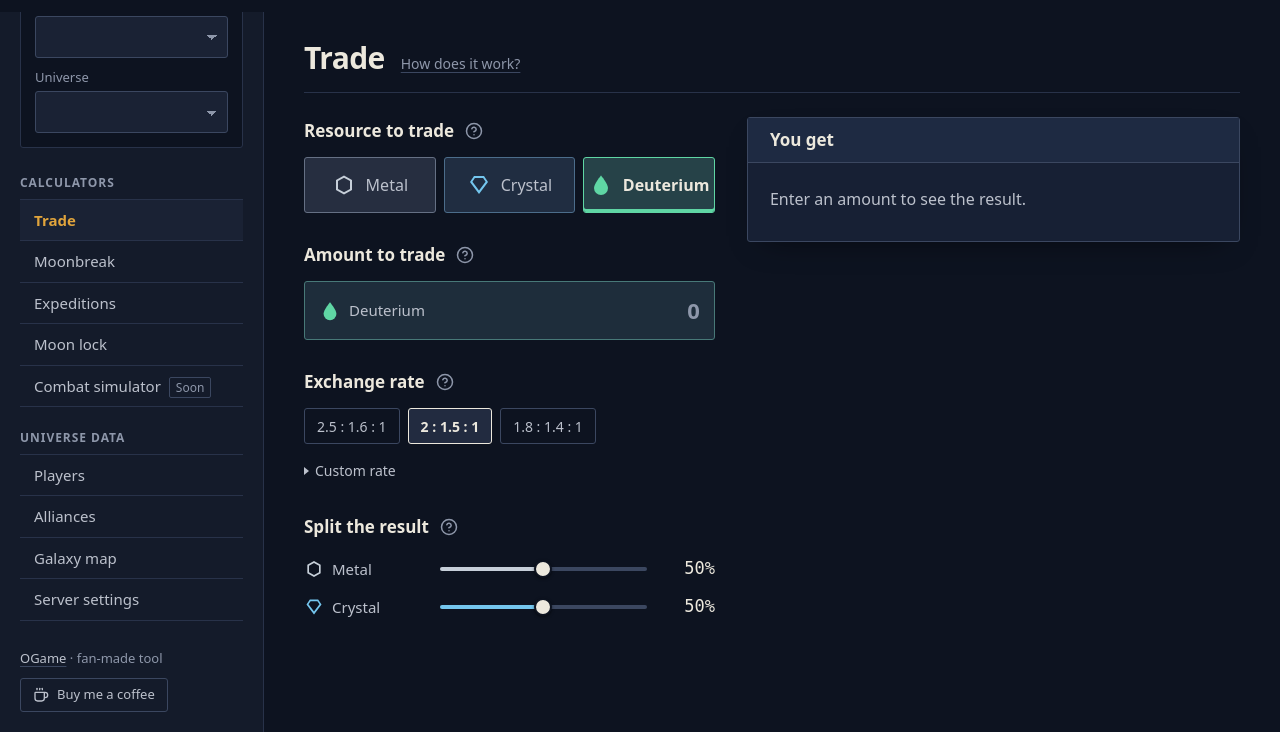
Test: <App /> › switches to the server settings tool
(page scrolled)
Click the link "Server settings" at (87, 599), box [34,589,139,609]
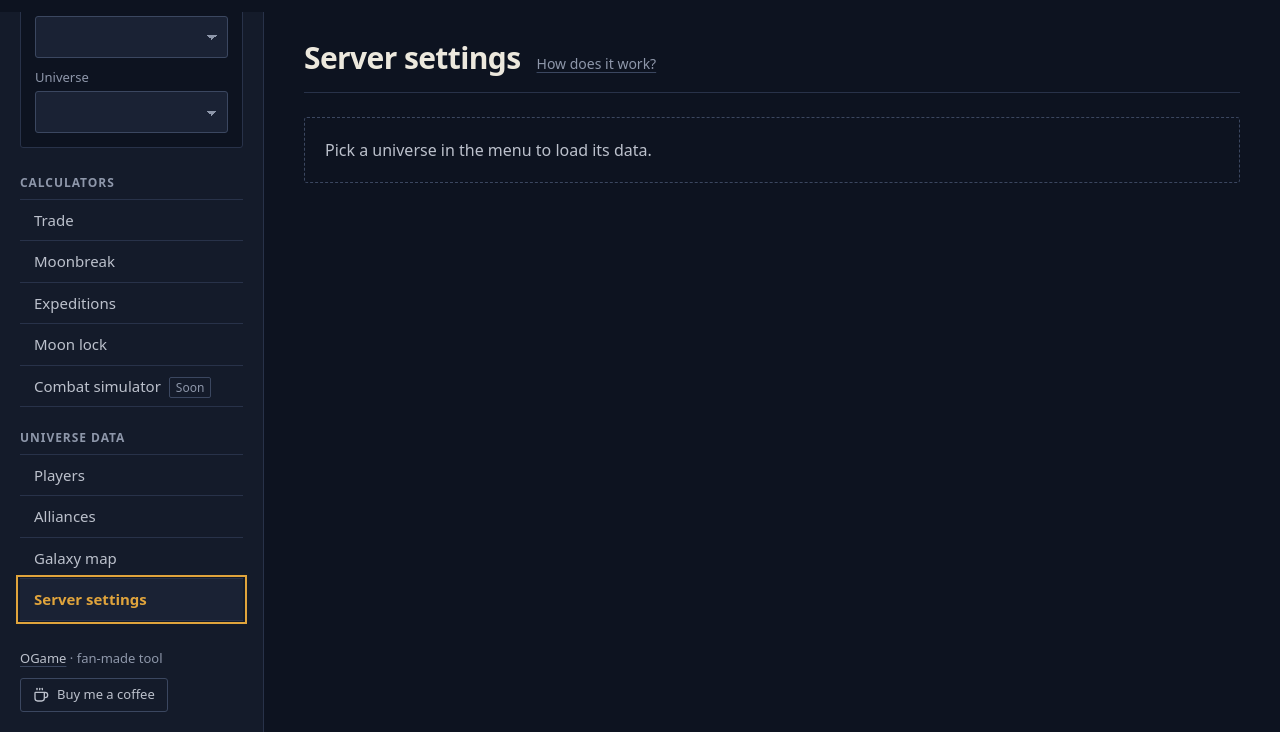
Expected: the heading "Server settings" is shown, [304,40,520,76]
